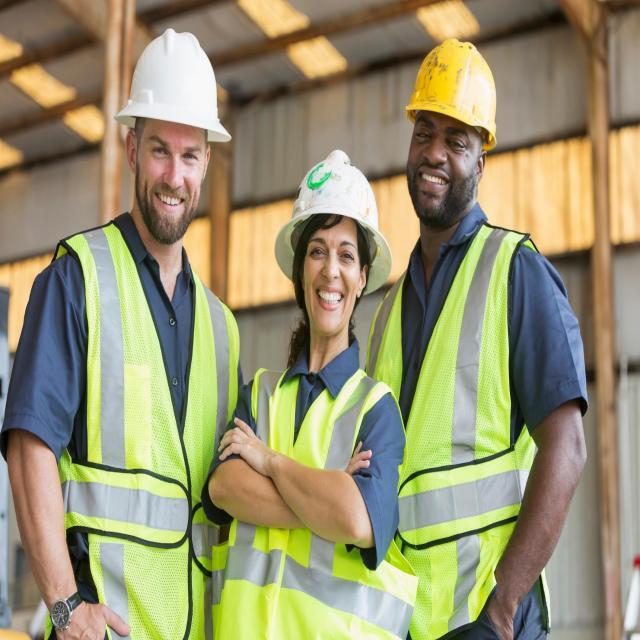Reflective-Jacket: (47, 222, 239, 634), (364, 222, 546, 633), (216, 356, 396, 640)
Safety-Helmet: (272, 144, 392, 284), (112, 27, 233, 149), (404, 36, 500, 144)
